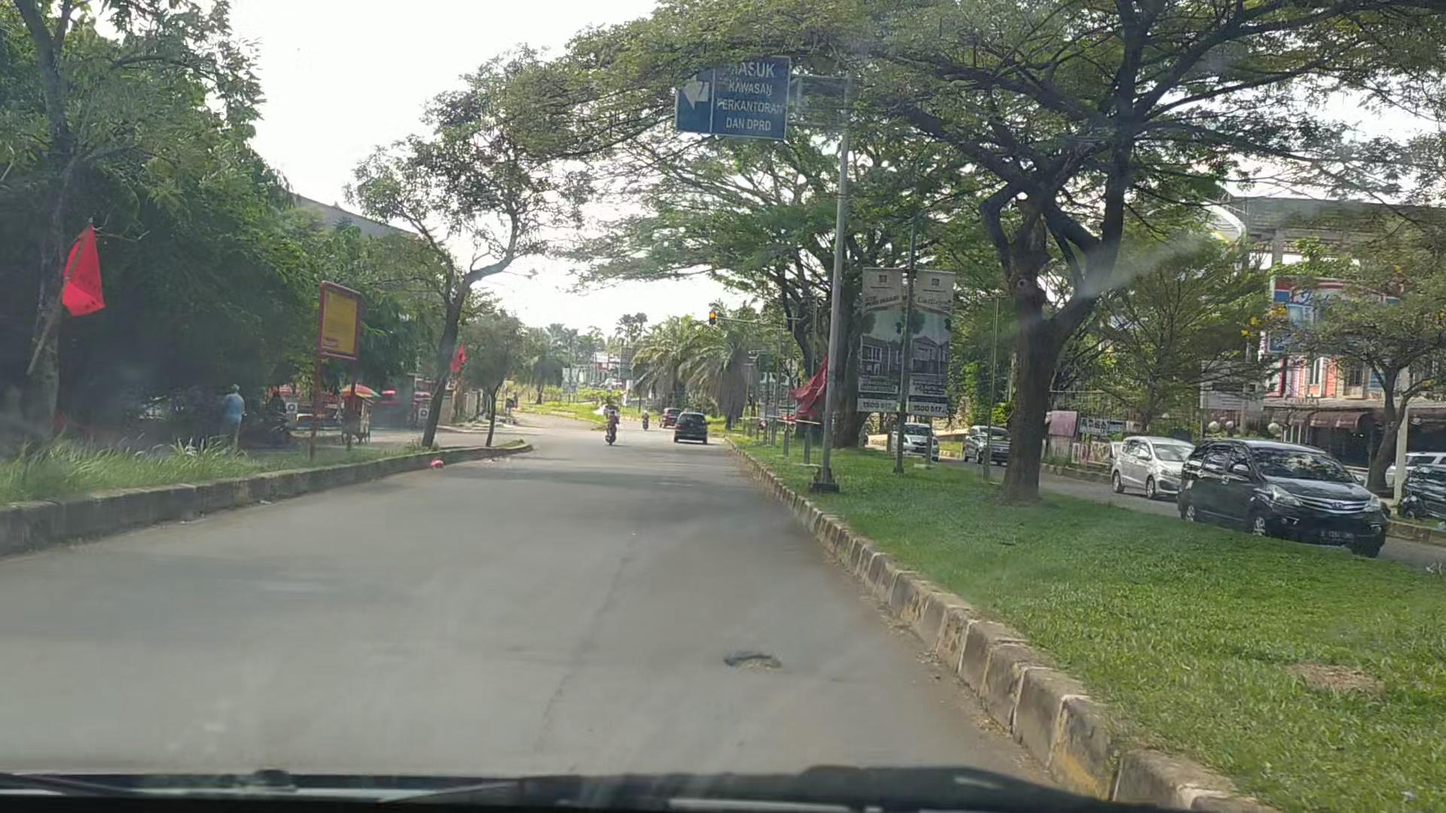pothole: (721, 650, 781, 674)
